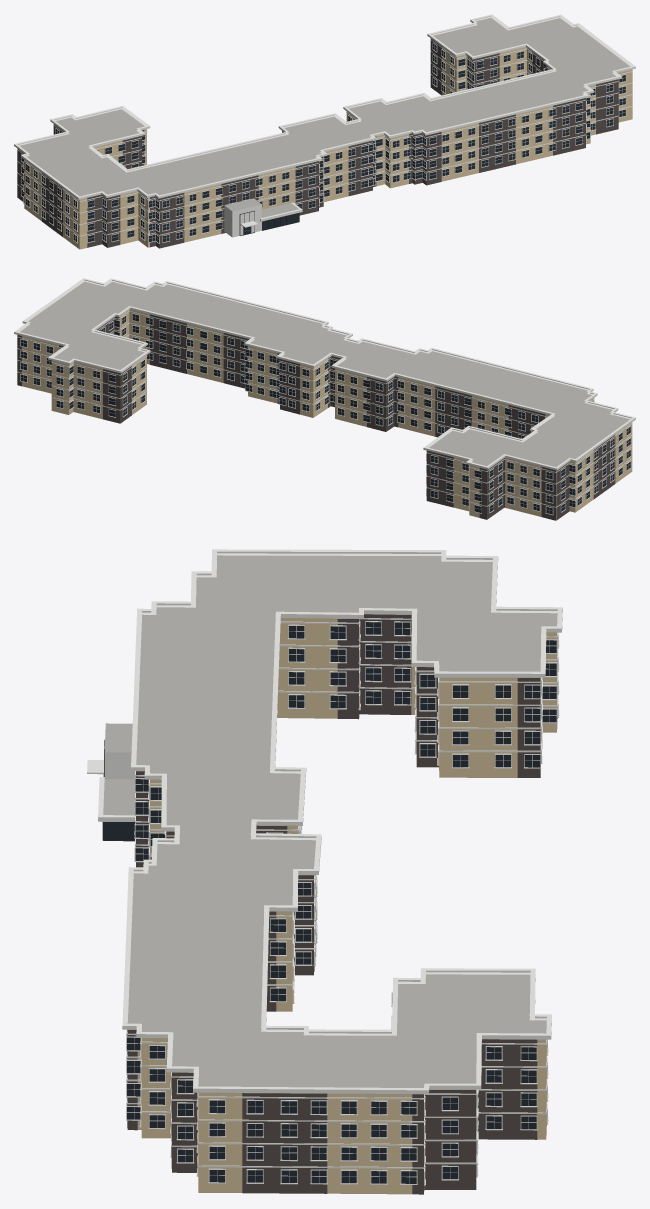
File: canyon_creek_heights_north_ch7.glb
3 renders of one model, top to bottom at view 1: azimuth 30°, elevation 25°; view 2: azimuth 150°, elevation 25°; view 3: azimuth 270°, elevation 25°, orthographic. The views are drawn at different scales.
Visible parts, largest first — view 1: canyon_creek_heights_north_ch7_Roof_Membrane, canyon_creek_heights_north_ch7_Trim_White, canyon_creek_heights_north_ch7_Wall_beigeStucco, canyon_creek_heights_north_ch7_Wall_canyonBrick, canyon_creek_heights_north_ch7_Glass_dark; view 2: canyon_creek_heights_north_ch7_Roof_Membrane, canyon_creek_heights_north_ch7_Trim_White, canyon_creek_heights_north_ch7_Wall_beigeStucco, canyon_creek_heights_north_ch7_Wall_canyonBrick, canyon_creek_heights_north_ch7_Glass_dark; view 3: canyon_creek_heights_north_ch7_Roof_Membrane, canyon_creek_heights_north_ch7_Trim_White, canyon_creek_heights_north_ch7_Wall_canyonBrick, canyon_creek_heights_north_ch7_Wall_beigeStucco, canyon_creek_heights_north_ch7_Glass_dark.
Part boxes in pixels (left/top/right/bottom): canyon_creek_heights_north_ch7_Roof_Membrane: left=19, top=18, right=629, bottom=217; canyon_creek_heights_north_ch7_Trim_White: left=14, top=14, right=635, bottom=243; canyon_creek_heights_north_ch7_Wall_beigeStucco: left=24, top=47, right=632, bottom=249; canyon_creek_heights_north_ch7_Wall_canyonBrick: left=17, top=38, right=618, bottom=248; canyon_creek_heights_north_ch7_Glass_dark: left=21, top=43, right=625, bottom=242; canyon_creek_heights_north_ch7_Roof_Membrane: left=20, top=281, right=629, bottom=466; canyon_creek_heights_north_ch7_Trim_White: left=14, top=278, right=635, bottom=515; canyon_creek_heights_north_ch7_Wall_beigeStucco: left=22, top=309, right=632, bottom=520; canyon_creek_heights_north_ch7_Wall_canyonBrick: left=17, top=314, right=615, bottom=520; canyon_creek_heights_north_ch7_Glass_dark: left=20, top=314, right=630, bottom=514; canyon_creek_heights_north_ch7_Roof_Membrane: left=103, top=555, right=557, bottom=1087; canyon_creek_heights_north_ch7_Trim_White: left=87, top=549, right=562, bottom=1185; canyon_creek_heights_north_ch7_Wall_canyonBrick: left=127, top=614, right=557, bottom=1194; canyon_creek_heights_north_ch7_Wall_beigeStucco: left=128, top=609, right=557, bottom=1194; canyon_creek_heights_north_ch7_Glass_dark: left=103, top=622, right=556, bottom=1183.
Size of the model in its own units: 151 by 13.8 by 56.
